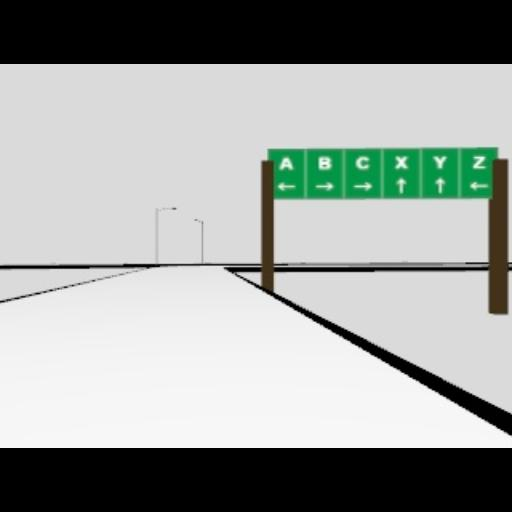A: (279, 156, 295, 172)
B: (318, 155, 332, 171)
C: (355, 155, 369, 169)
Left: (276, 182, 298, 192), (468, 181, 488, 191)
Right: (351, 181, 373, 191), (314, 181, 334, 191)
Straight: (434, 178, 446, 194), (396, 176, 406, 194)
X: (394, 155, 408, 169)
Y: (432, 155, 448, 169)
Z: (472, 155, 486, 171)
